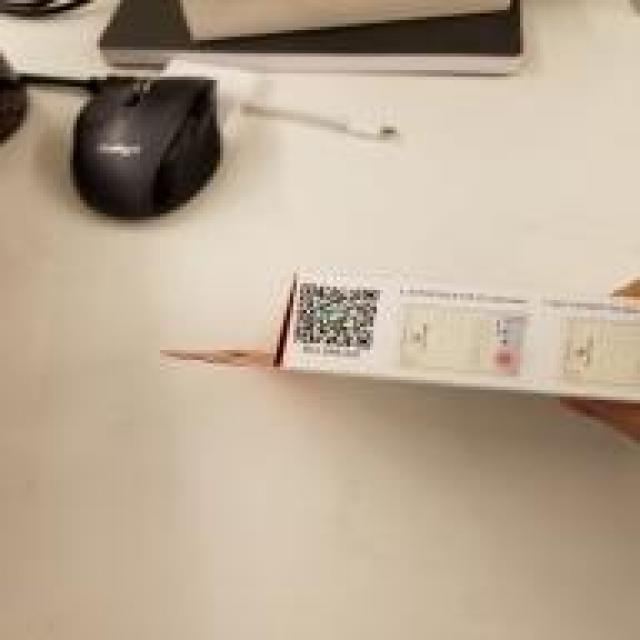qr_code: (296, 283, 382, 349)
